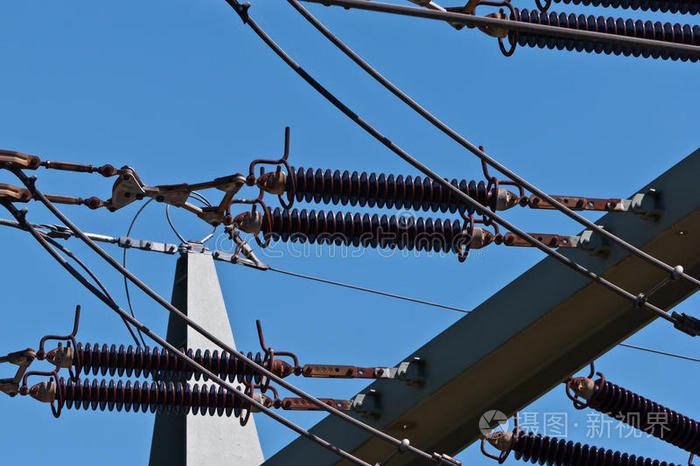insulator: (259, 200, 463, 258), (285, 160, 490, 216), (509, 6, 700, 62), (68, 337, 265, 386), (54, 375, 246, 423), (588, 377, 700, 451), (513, 429, 671, 466)
